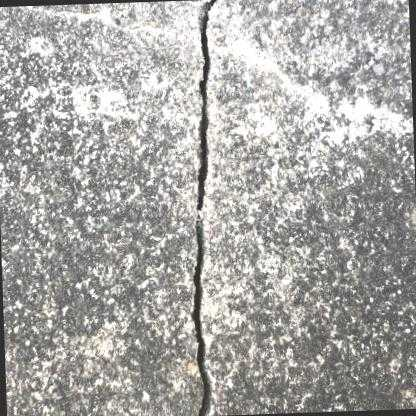crack: (192, 0, 216, 416)
